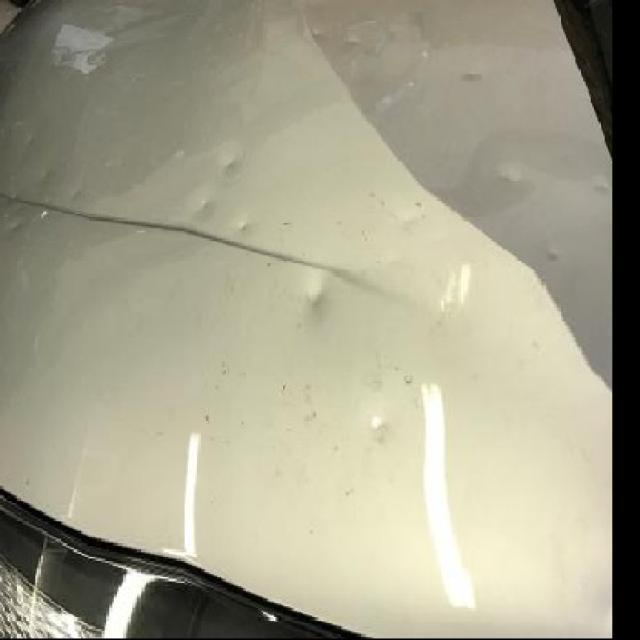dent: (298, 275, 328, 314), (368, 411, 392, 440), (498, 162, 528, 182), (192, 192, 217, 215), (218, 156, 244, 178), (544, 244, 564, 262), (594, 178, 610, 196), (234, 217, 251, 232), (8, 217, 24, 232), (37, 168, 54, 182), (24, 138, 36, 150)
